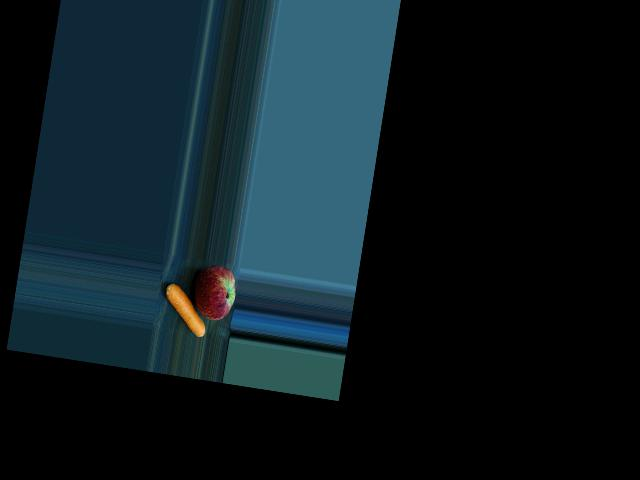carrot: (157, 276, 215, 338)
